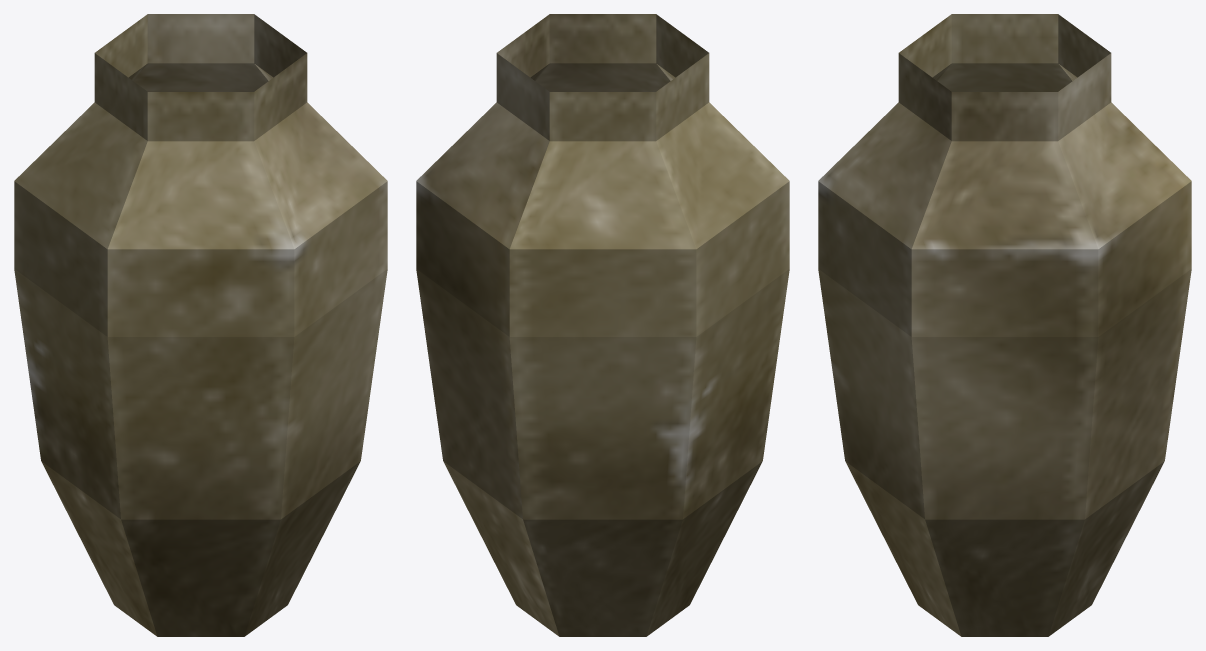
Rendered from Vase_2.fbx.
3 views of the same model, side by side, from view 1: azimuth 30°, elevation 25°; view 2: azimuth 150°, elevation 25°; view 3: azimuth 270°, elevation 25° (orthographic).
Visible parts, largest first — view 1: Vase_2; view 2: Vase_2; view 3: Vase_2.
Boxes of the visible parts, bbox=[...] form: Vase_2: bbox=[14, 14, 387, 636]; Vase_2: bbox=[416, 14, 789, 636]; Vase_2: bbox=[818, 14, 1191, 636].
Size of the model in its own units: 10.83 by 20.4 by 12.5.
